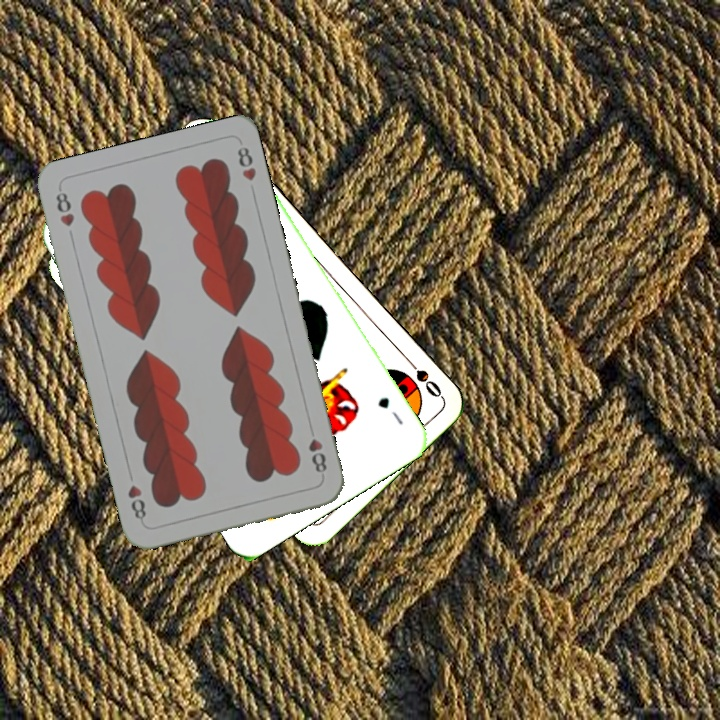GU: (374, 393, 406, 428)
H8: (304, 434, 330, 479), (51, 185, 77, 230)
SO: (400, 351, 445, 400)
